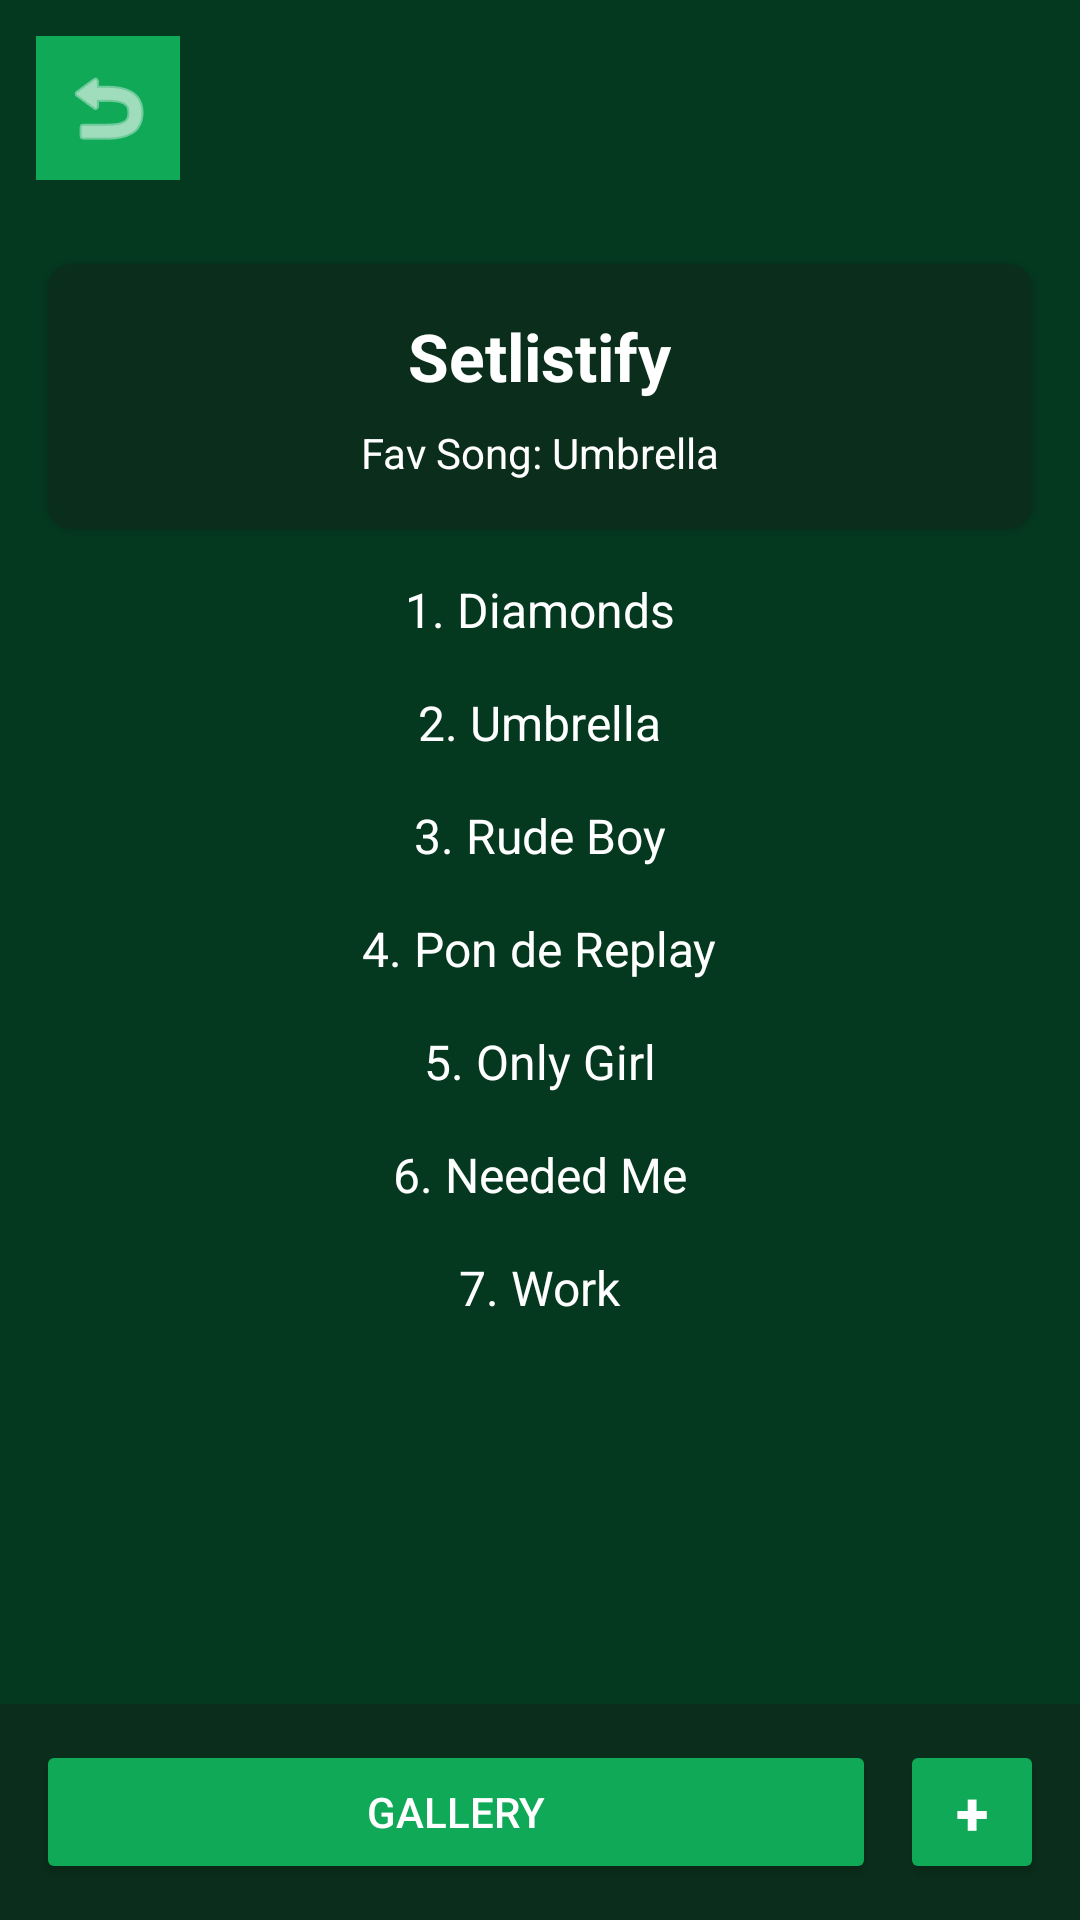

Screen size 1080 × 1920. Icon name, then its center in pixels as [x,y]:
Back: [108,108]
